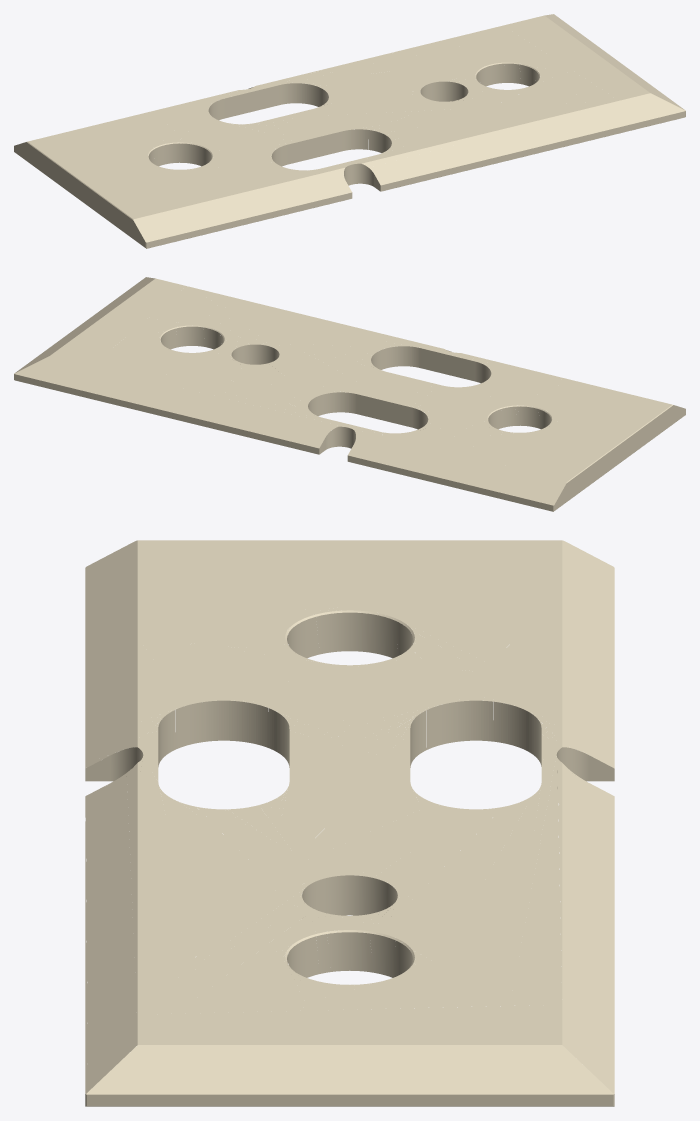
The model's file is asinma-mtb-mtb-85-03.glb.
The picture shows the model from 3 angles, top to bottom: view 1: azimuth 30°, elevation 25°; view 2: azimuth 150°, elevation 25°; view 3: azimuth 270°, elevation 25°; orthographic projection. The views are drawn at different scales.
Visible parts, largest first — view 1: body; view 2: body; view 3: body.
Part boxes in pixels (x1=…): body: x1=14, y1=14, x2=685, y2=248; body: x1=14, y1=277, x2=685, y2=511; body: x1=85, y1=540, x2=614, y2=1106.
Size of the model in its own units: 0.495 by 0.0175 by 0.21.
